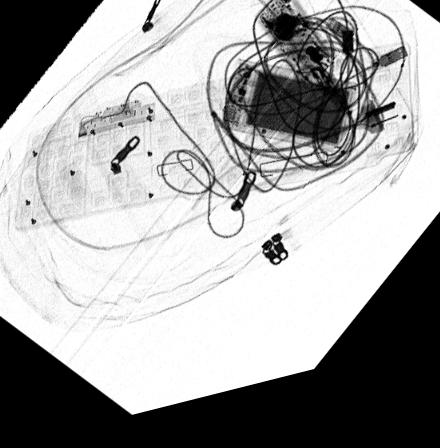Powerbank: (219, 69, 356, 172)
